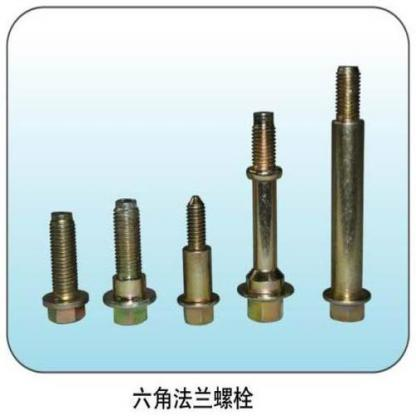FOD: (320, 60, 376, 325), (232, 109, 297, 328), (100, 198, 157, 328), (37, 207, 92, 325), (174, 191, 221, 328)
